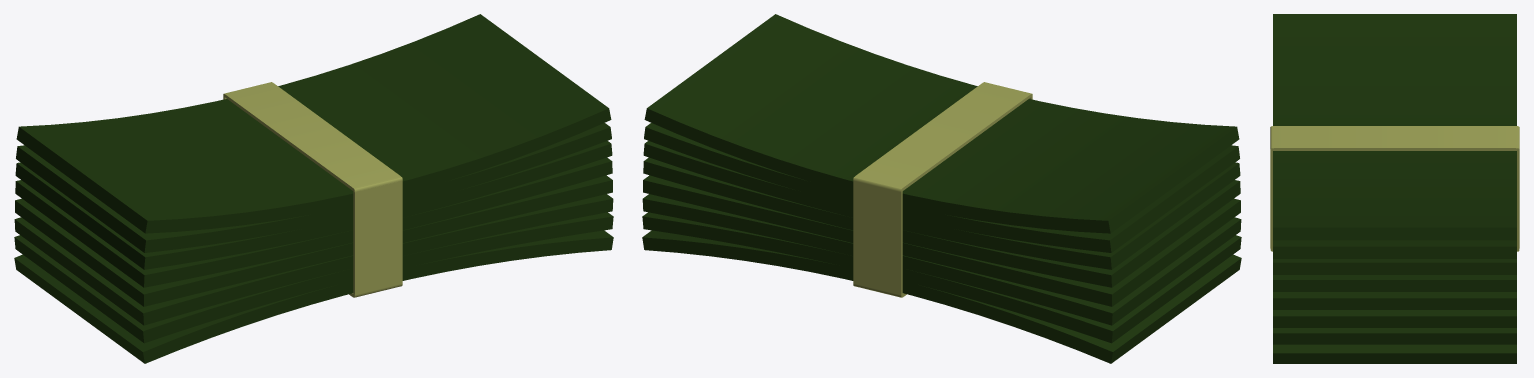
File: Item_Money (AMG).fbx
3 renders of one model, left to right at view 1: azimuth 30°, elevation 25°; view 2: azimuth 150°, elevation 25°; view 3: azimuth 270°, elevation 25°, orthographic. The views are drawn at different scales.
Visible parts, largest first — view 1: Box006; view 2: Box006; view 3: Box006.
Part boxes in pixels (x1,y1,x2,y2): Box006: (14,14,613,363); Box006: (642,14,1241,363); Box006: (1270,14,1519,363).
Size of the model in its own units: 51.34 by 14.85 by 24.85.
